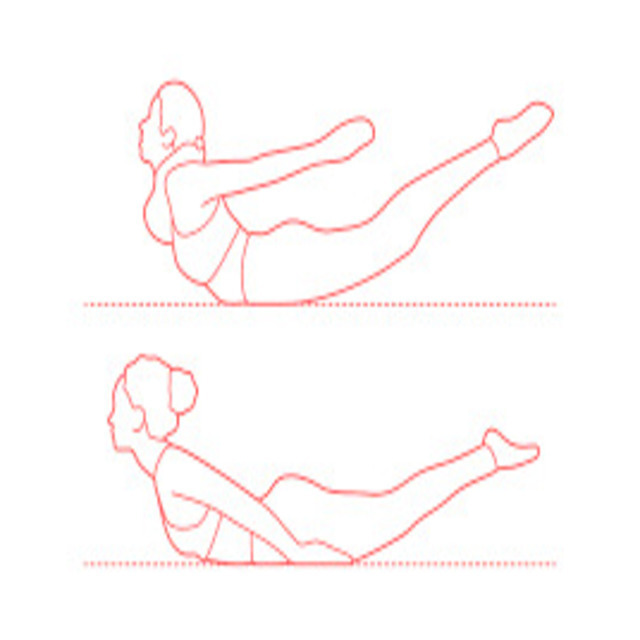Locust_Pose: (108, 347, 540, 567)
